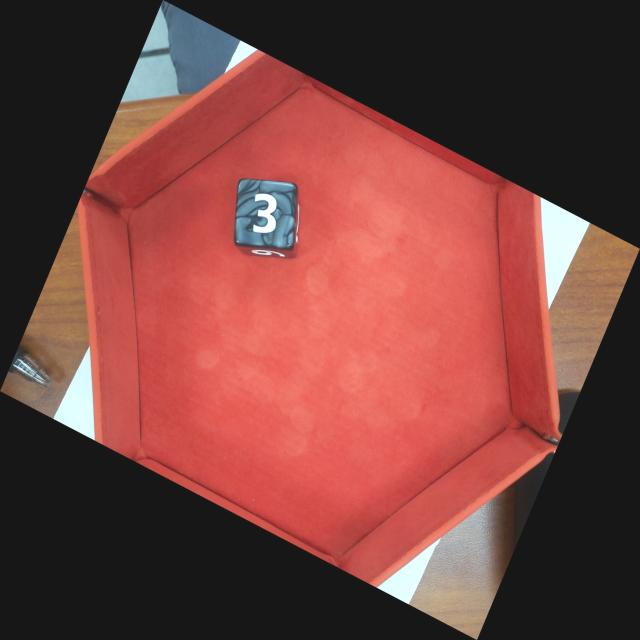dice: (236, 180, 295, 248)
